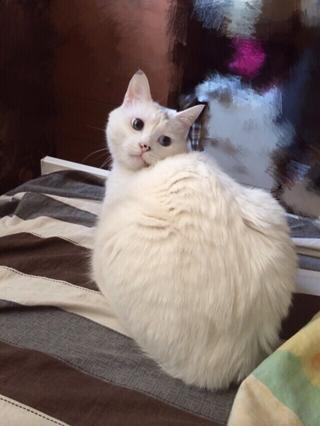animal.cat: (76, 67, 299, 398), (101, 102, 195, 179)
